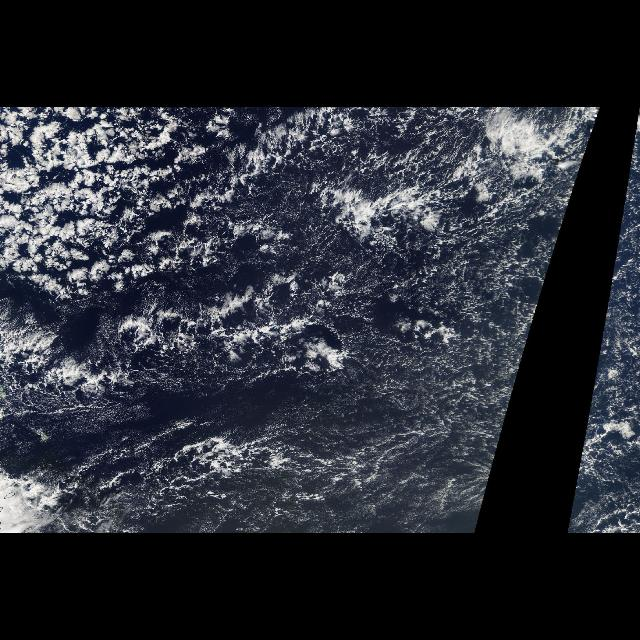Flower: (1, 108, 154, 292)
Gravel: (2, 108, 582, 422)
Sugar: (247, 362, 521, 532), (564, 362, 636, 532)
